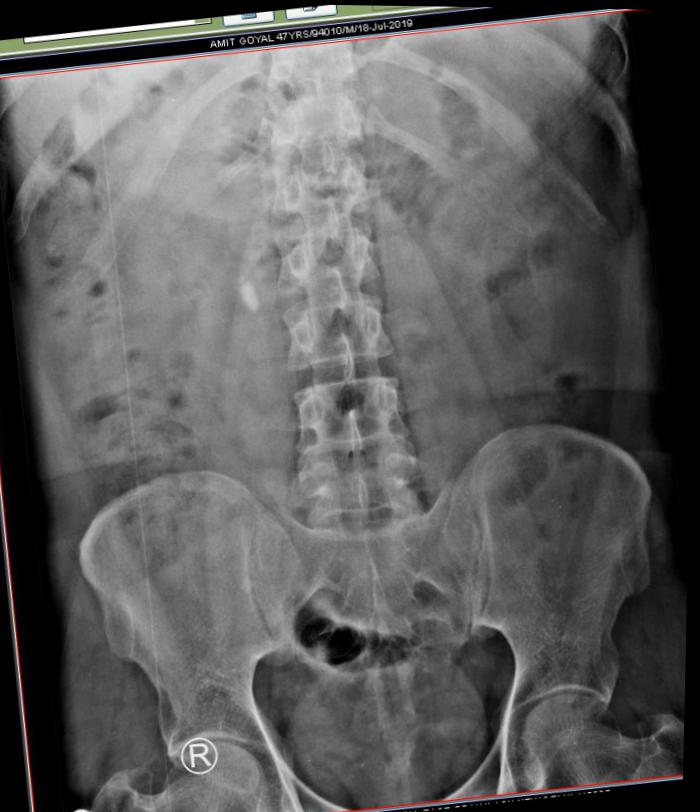bladder: (275, 640, 507, 811)
vertebrae: (265, 142, 375, 225)
